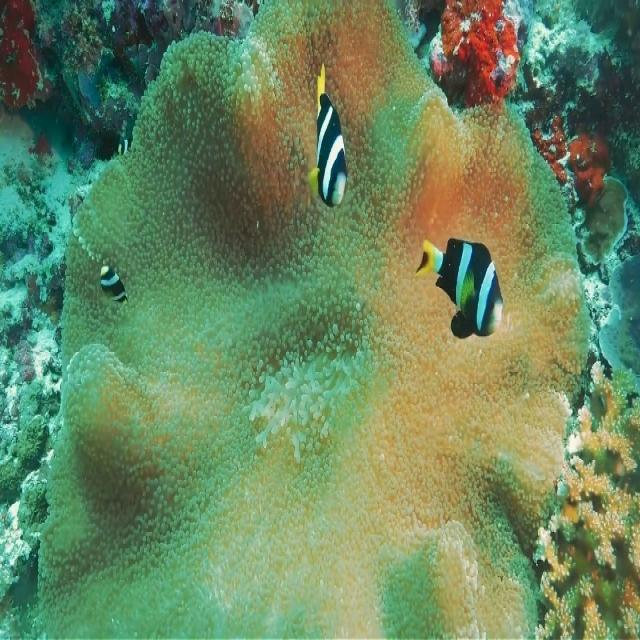fish: (415, 237, 504, 339), (308, 63, 346, 207), (99, 265, 128, 305)
reefs: (37, 0, 590, 638), (532, 358, 638, 639), (430, 0, 520, 107), (533, 110, 566, 180)
